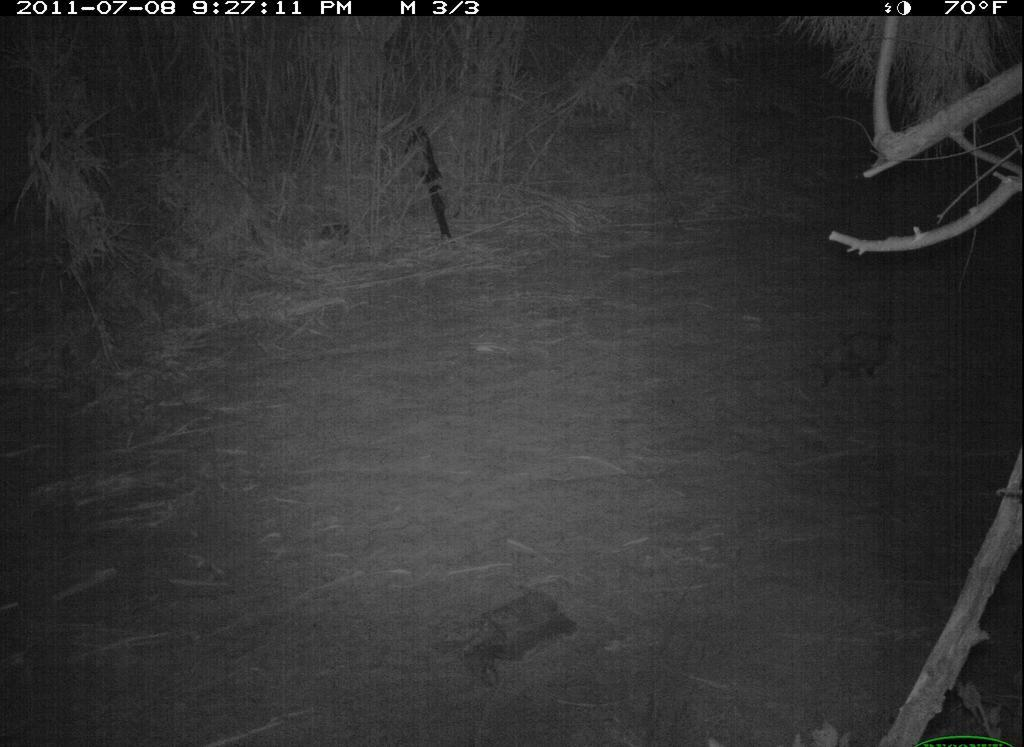bobcat: (439, 591, 575, 681)
opossum: (819, 329, 899, 387)
